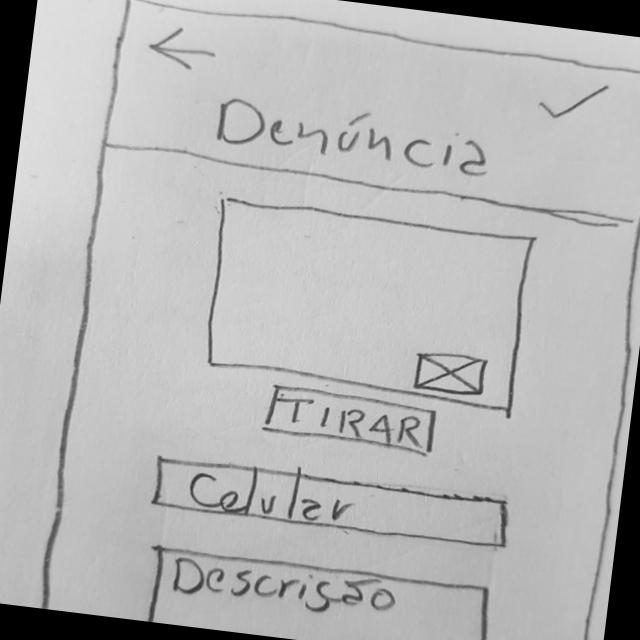button: (144, 449, 528, 558), (127, 540, 501, 640), (256, 378, 448, 460)
container: (25, 134, 640, 640), (99, 0, 640, 228), (195, 190, 547, 416)
icon-button: (519, 70, 628, 128), (138, 19, 228, 78)
image: (408, 345, 496, 402)
label: (207, 86, 504, 186)
